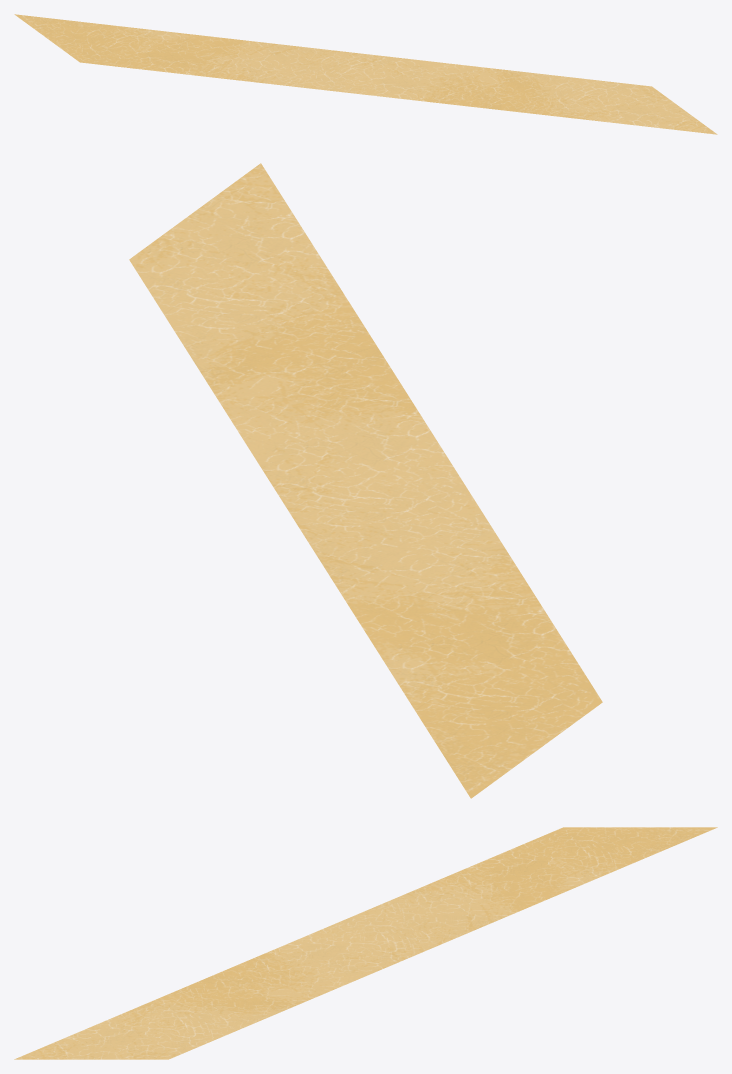
The model's file is shoulder_right.gltf.
The picture shows the model from 3 angles, top to bottom: view 1: azimuth 30°, elevation 25°; view 2: azimuth 150°, elevation 25°; view 3: azimuth 270°, elevation 25°; orthographic projection. The views are drawn at different scales.
Parts seen in each view (by area): view 1: shoulder_right; view 2: shoulder_right; view 3: shoulder_right.
Boxes of the visible parts, box(x1,y1,x2,y2) form: shoulder_right: box(14, 14, 717, 134); shoulder_right: box(129, 163, 602, 798); shoulder_right: box(14, 827, 717, 1059).
Bounding box in the file's own units: 5.01 × 0 × 6.42.
Materials: 1 (1 with a texture image).
